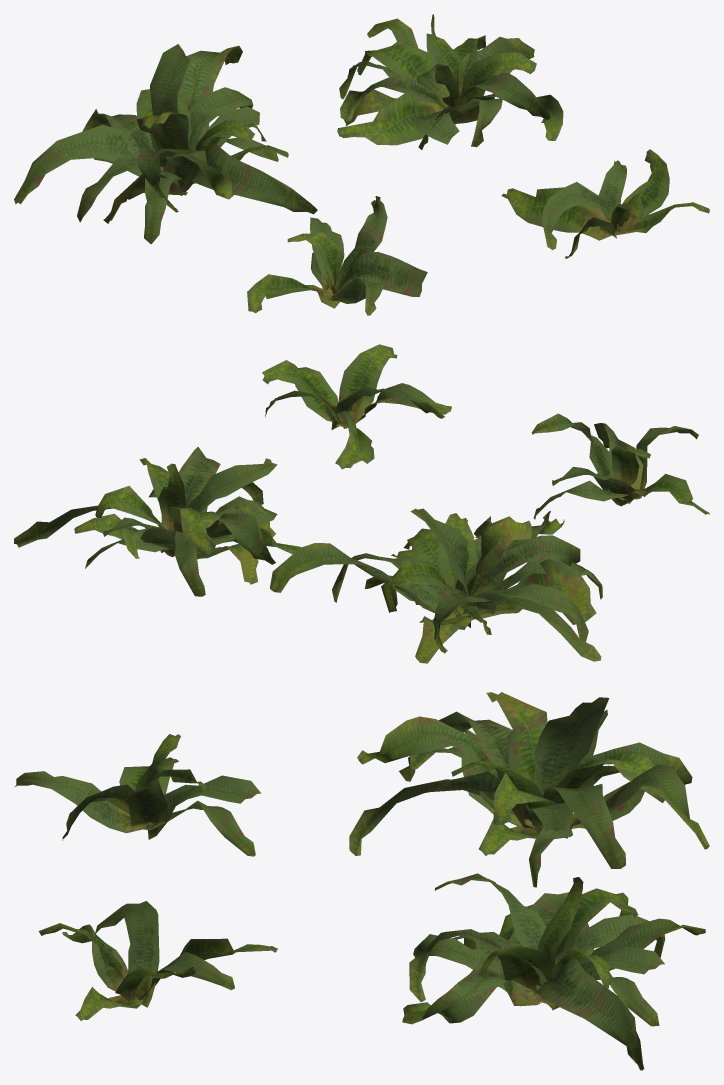
The model's file is fern_02_lod.glb.
The picture shows the model from 3 angles, top to bottom: view 1: azimuth 30°, elevation 25°; view 2: azimuth 150°, elevation 25°; view 3: azimuth 270°, elevation 25°; orthographic projection. The views are drawn at different scales.
Visible parts, largest first — view 1: fern_02_b, fern_02_c, fern_02_a, fern_02_d; view 2: fern_02_b, fern_02_c, fern_02_d, fern_02_a; view 3: fern_02_b, fern_02_c, fern_02_a, fern_02_d.
Part boxes in pixels (x1=…): fern_02_b: x1=14, y1=44, x2=317, y2=244; fern_02_c: x1=337, y1=14, x2=563, y2=149; fern_02_a: x1=247, y1=196, x2=427, y2=315; fern_02_d: x1=501, y1=149, x2=709, y2=258; fern_02_b: x1=270, y1=508, x2=602, y2=663; fern_02_c: x1=14, y1=447, x2=301, y2=596; fern_02_d: x1=262, y1=344, x2=451, y2=469; fern_02_a: x1=531, y1=413, x2=709, y2=519; fern_02_b: x1=349, y1=692, x2=709, y2=887; fern_02_c: x1=402, y1=873, x2=705, y2=1070; fern_02_a: x1=15, y1=734, x2=261, y2=856; fern_02_d: x1=38, y1=901, x2=277, y2=1020.
Bounding box in the file's own units: 1.97 × 0.4277 × 1.72.
Materials: 1 (1 with a texture image).
